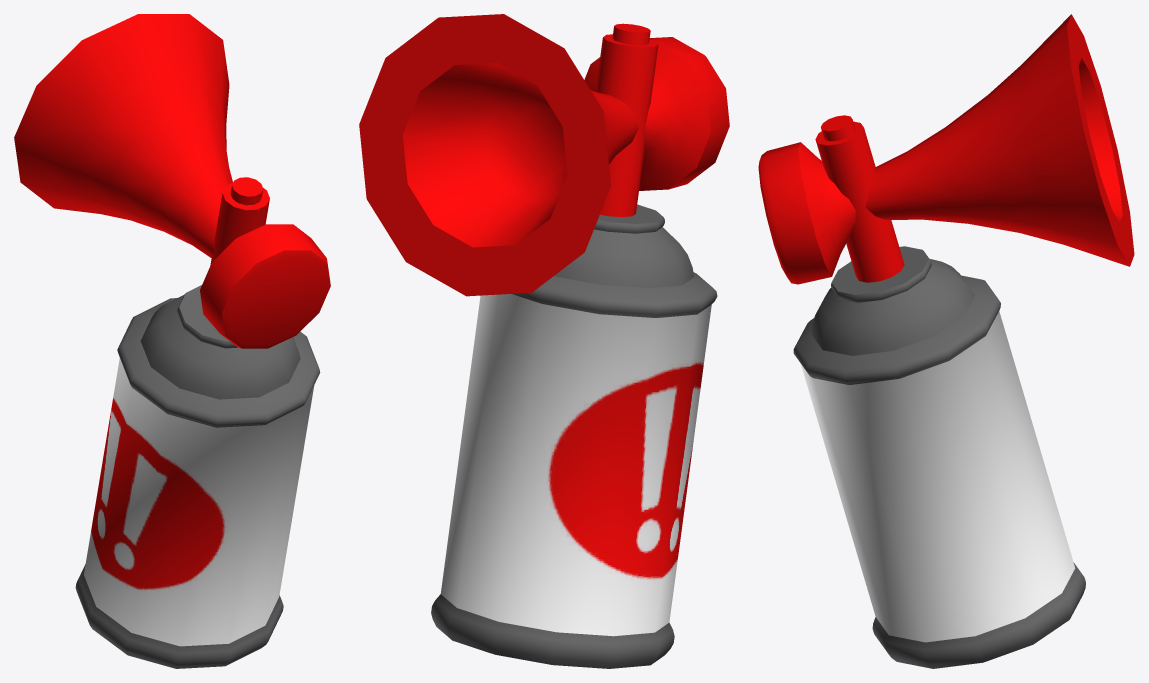
File: airhorn.glb
The picture shows the model from 3 angles, left to right: view 1: azimuth 30°, elevation 25°; view 2: azimuth 150°, elevation 25°; view 3: azimuth 270°, elevation 25°; orthographic projection. The views are drawn at different scales.
Parts seen in each view (by area): view 1: Airhorn; view 2: Airhorn; view 3: Airhorn.
Part boxes in pixels (box(x1,y1,x2,y2)): Airhorn: box(14, 14, 330, 668); Airhorn: box(359, 14, 729, 668); Airhorn: box(758, 14, 1134, 668).
Size of the model in its own units: 0.0548 by 0.1429 by 0.0789.
1 material, 1 textured.
